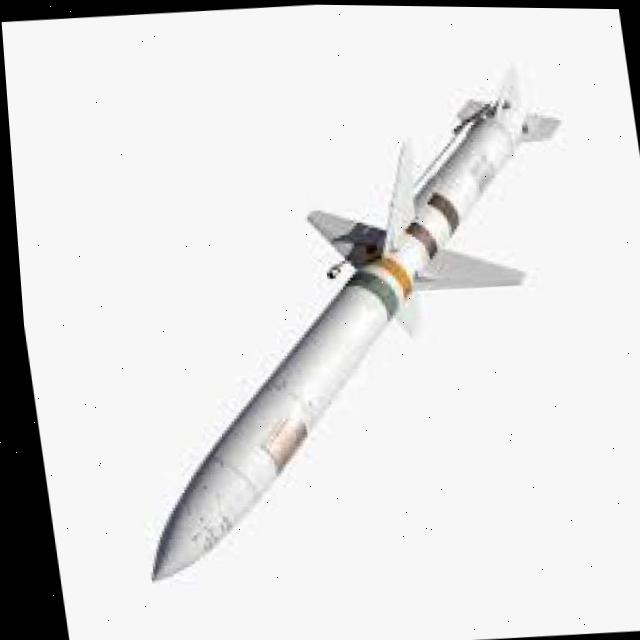missile: (75, 52, 616, 588)
